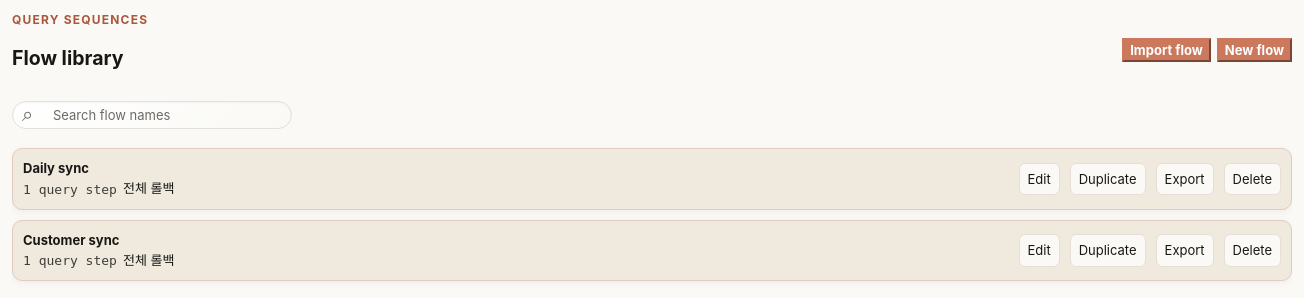
Test: filters saved flows by name as the user types and restores all flows when cleared
The image size is (1304, 298).
Expected: the text "Customer sync" is shown, [23,232,119,248]
Type "customer" into the field named "Filter flows by name" at (152, 115), box [12,101,292,129]
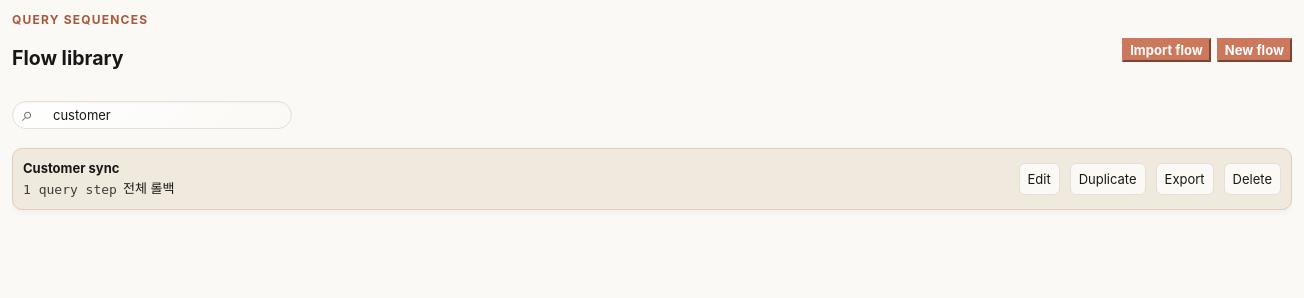
Expected: the text "Customer sync" is shown, [23,160,119,176]
Result: the text "Daily sync" is gone
Clear the field named "Filter flows by name" at (152, 115), box [12,101,292,129]
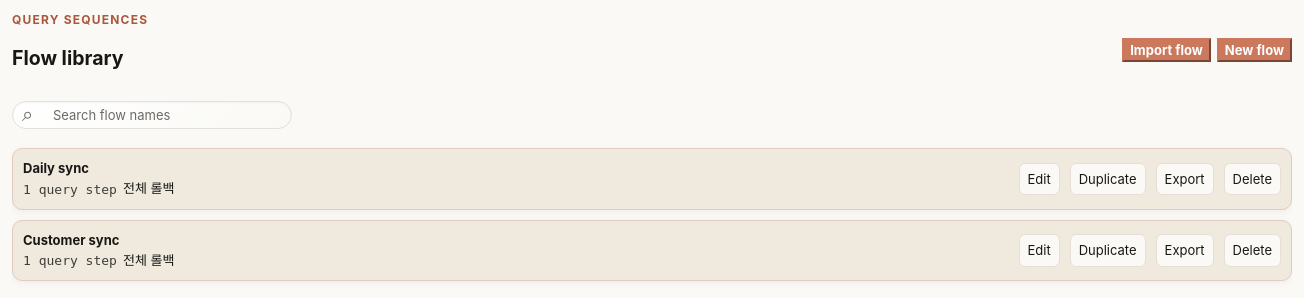
Expected: the text "Customer sync" is shown, [23,232,119,248]
Result: the text "Daily sync" is shown at [23,160,89,176]
